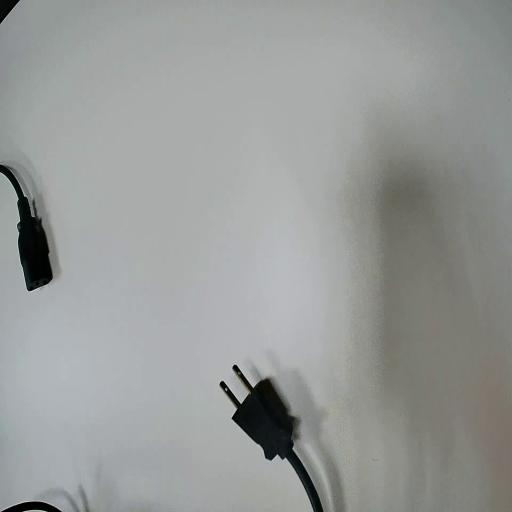wire: (221, 366, 322, 511)
